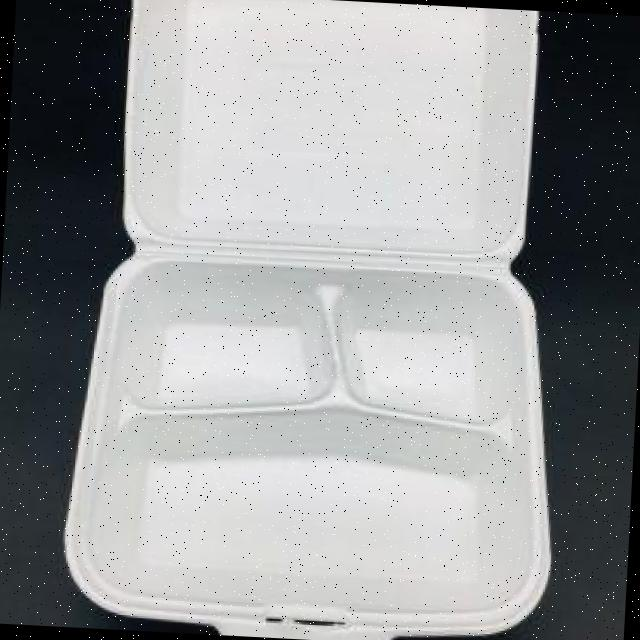styrofoam: (56, 0, 582, 640)
